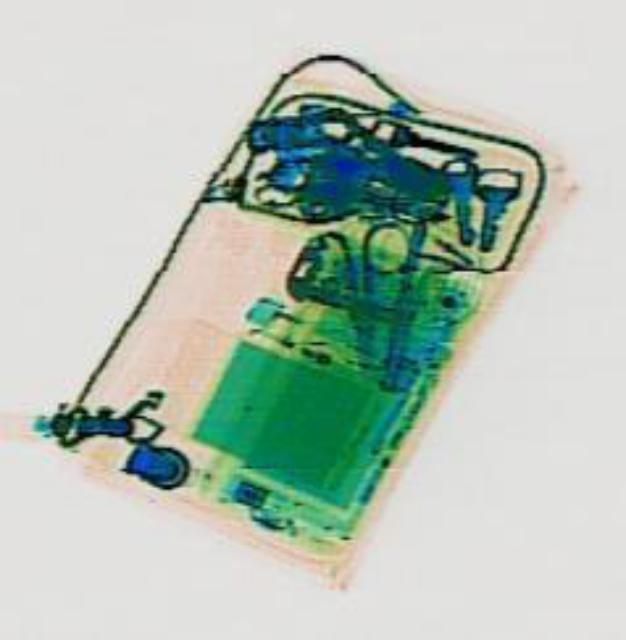Scissors: (294, 215, 420, 369)
